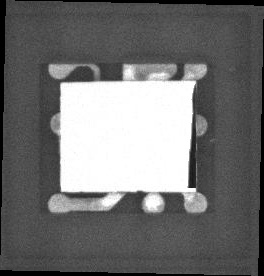DIE_BROKEN: (185, 86, 200, 191)
